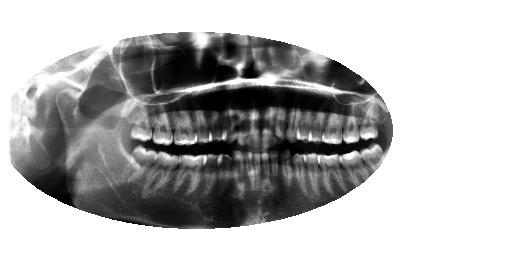Cavity: (214, 152, 233, 203), (279, 147, 293, 192)
Fillings: (340, 149, 370, 187), (359, 103, 383, 142), (341, 103, 361, 143), (358, 144, 386, 170)
